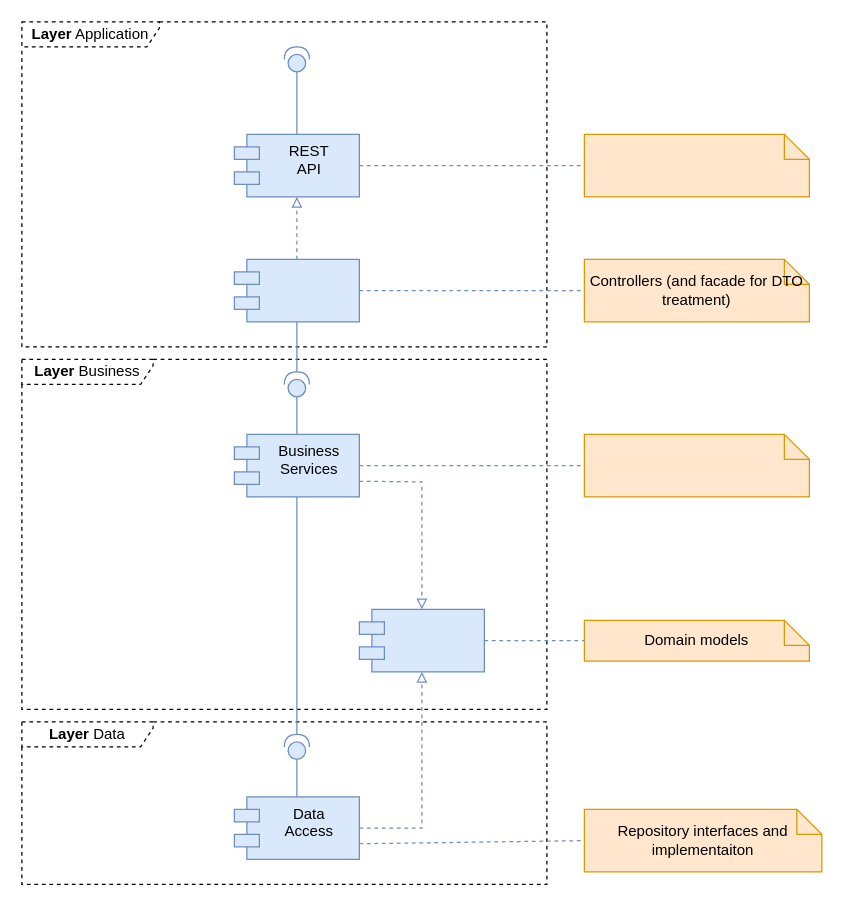
This 844x906 diagram has some shape labels left out. Each missing label, with the centre of its shape:
"API" goes at point (296, 290).
"Business Logic" goes at point (421, 640).
"Domain services interfaces and implementation" goes at point (696, 465).
"Interface for each architectural style" goes at point (696, 165).
